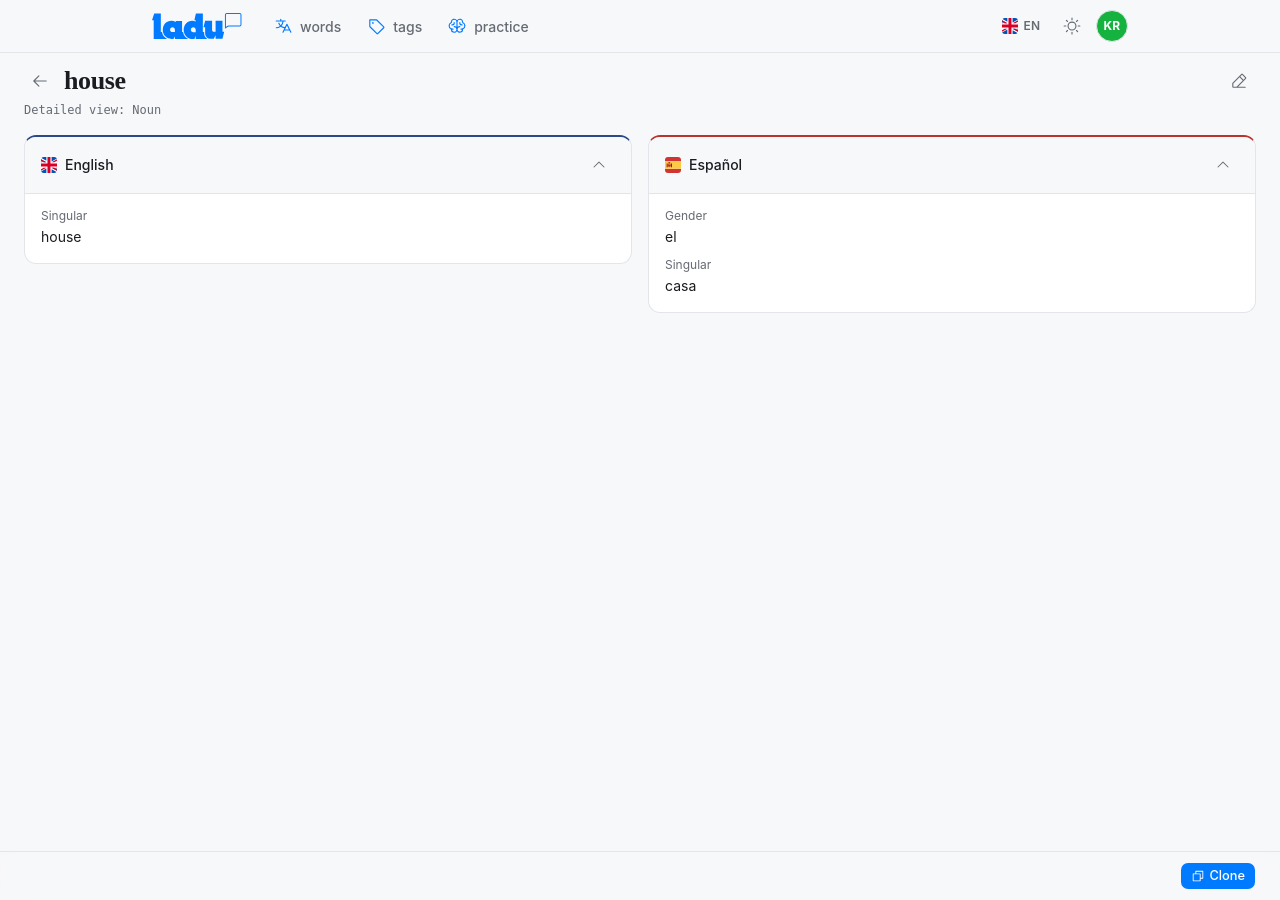
Test: WordPage — a word of someone else (a followed tag) › phone: the footer has Clone; neither the footer nor the side menu has Edit or Delete
Expected: the button "Clone" is shown, [1180,862,1256,890]
Click the button named "Open menu". click: (1239, 81)
box: [1222,65,1256,97]
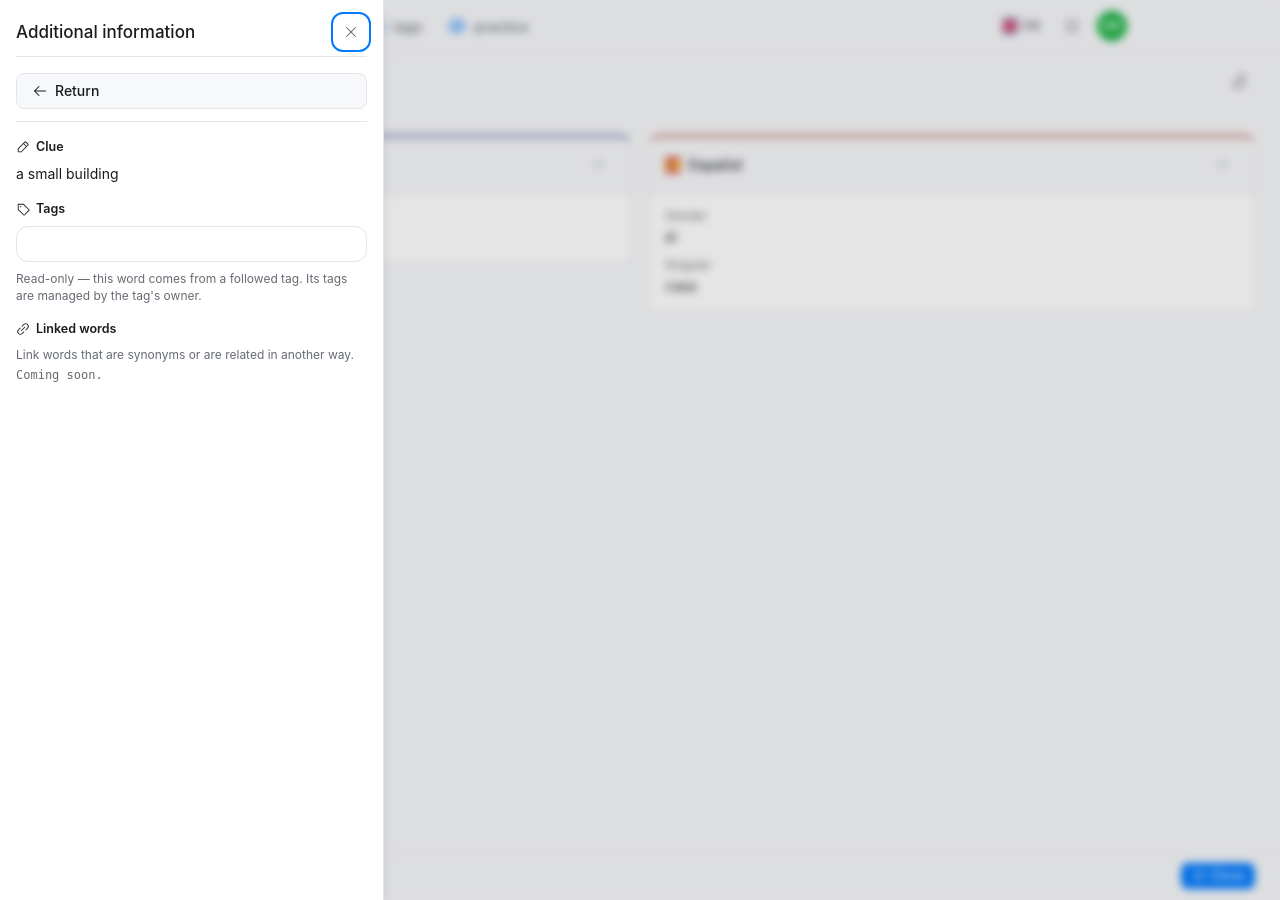
Now the button "Return" is shown, box [16,73,367,109]
